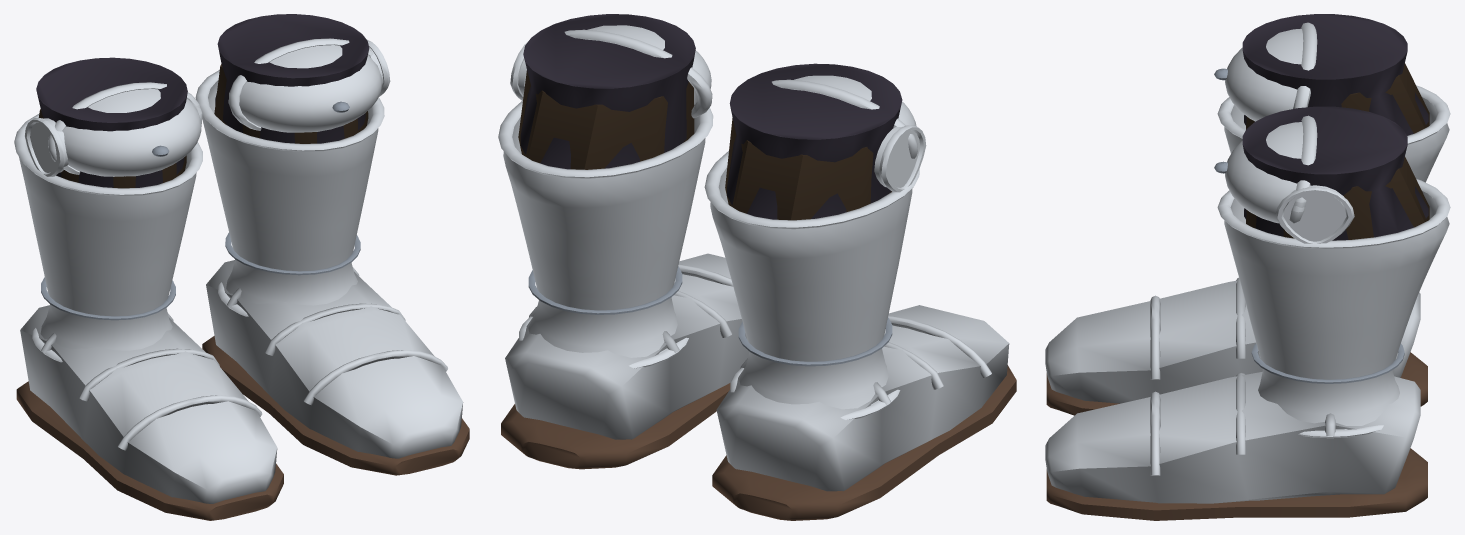
File: f_knightplate_d.glb
The picture shows the model from 3 angles, left to right: view 1: azimuth 30°, elevation 25°; view 2: azimuth 150°, elevation 25°; view 3: azimuth 270°, elevation 25°; orthographic projection. The views are drawn at different scales.
Parts seen in each view (by area): view 1: LegR_Boot, LegL_Boot, LegR_BootFoot, LegL_BootFoot, LegL_Shin, LegR_Shin; view 2: LegR_Boot, LegL_Boot, LegR_BootFoot, LegL_BootFoot, LegL_Shin, LegR_Shin; view 3: LegL_Boot, LegL_BootFoot, LegR_BootFoot, LegR_Boot, LegL_Shin, LegR_Shin.
Boxes of the visible parts, x1,y1,x2,y2 form: LegR_Boot: [14, 57, 202, 362]; LegL_Boot: [195, 14, 390, 316]; LegR_BootFoot: [16, 305, 283, 520]; LegL_BootFoot: [202, 260, 469, 475]; LegL_Shin: [214, 64, 368, 143]; LegR_Shin: [38, 109, 186, 188]; LegR_Boot: [704, 63, 926, 419]; LegL_Boot: [498, 14, 713, 368]; LegR_BootFoot: [712, 305, 1016, 520]; LegL_BootFoot: [501, 253, 749, 469]; LegL_Shin: [518, 70, 694, 169]; LegR_Shin: [725, 118, 891, 220]; LegL_Boot: [1214, 106, 1450, 438]; LegL_BootFoot: [1045, 372, 1427, 520]; LegR_BootFoot: [1045, 277, 1427, 415]; LegR_Boot: [1214, 14, 1450, 182]; LegL_Shin: [1246, 157, 1429, 239]; LegR_Shin: [1246, 63, 1429, 133].
Size of the model in its own units: 0.3997 by 0.3862 by 0.3935.
